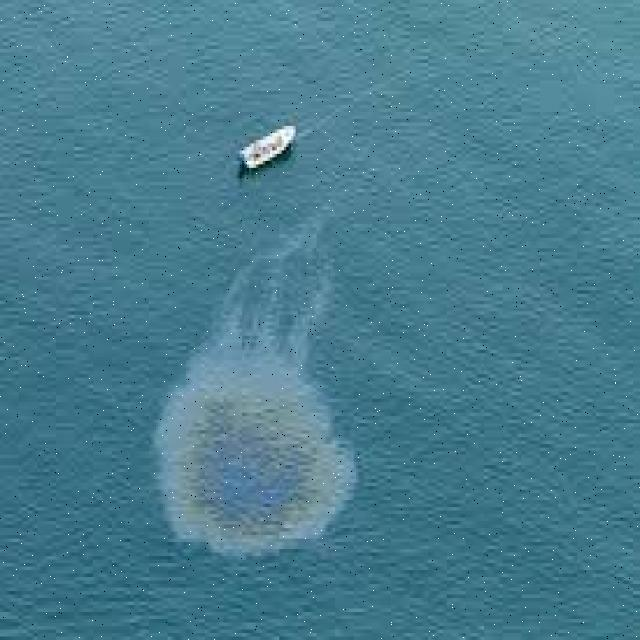oil: (132, 306, 413, 560)
